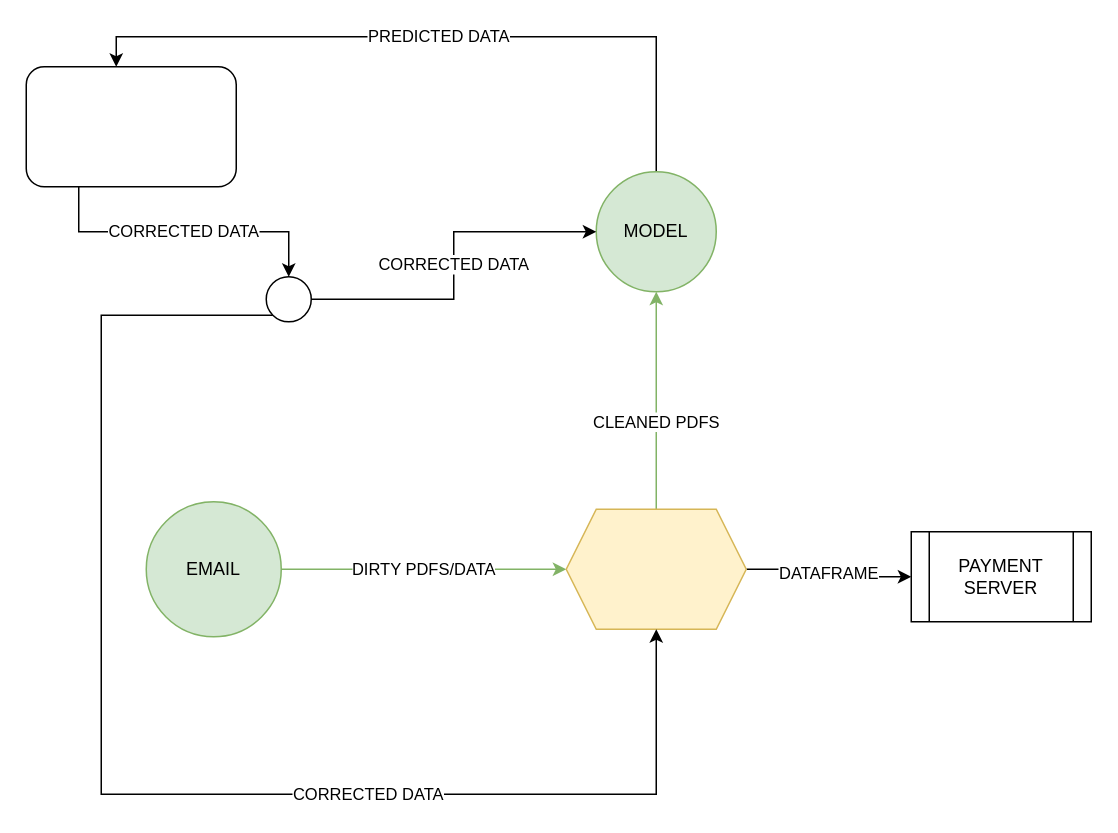
Some shapes in this 1118 by 833 pixel diagram are drawn without their labels. The shapes that lost their labels are listed below. From the top down, each one's centre as x and y in pixels, then its label:
pixel 130 126: AP Personel
pixel 655 568: OVERNIGHT SCRIPT
